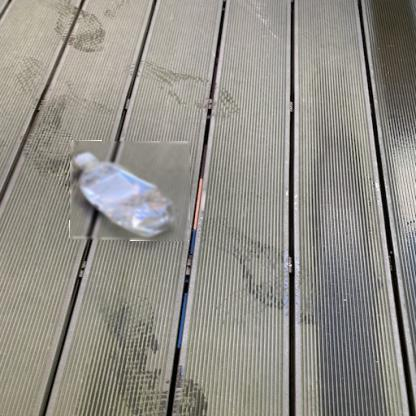plastic-bottles: (71, 143, 192, 243)
